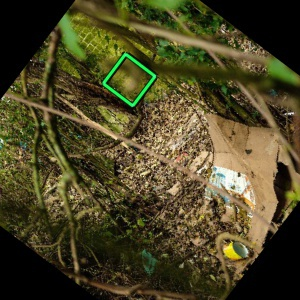square: (100, 50, 159, 110)
